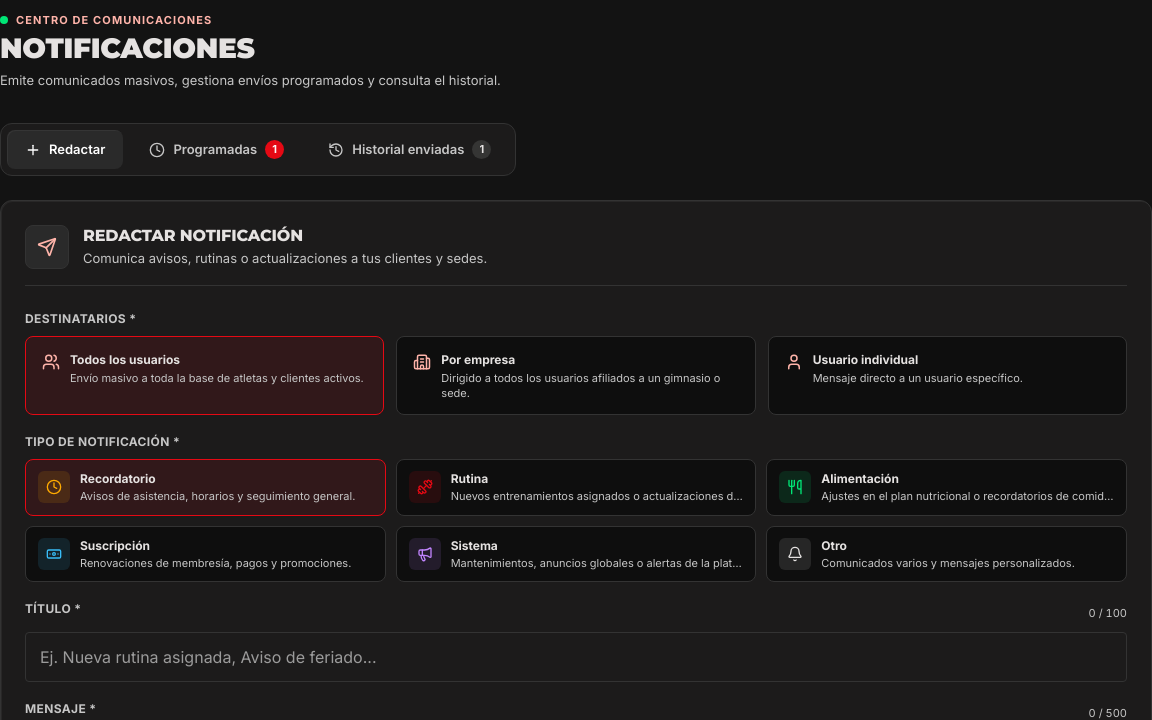
Test: NotificacionesView › permite alternar a la pestaña de Programadas y muestra las notificaciones
Step 1. Click the tab with class "notificaciones__tab" showing "Programadas 1" → click(217, 150), box [131,130,302,170]
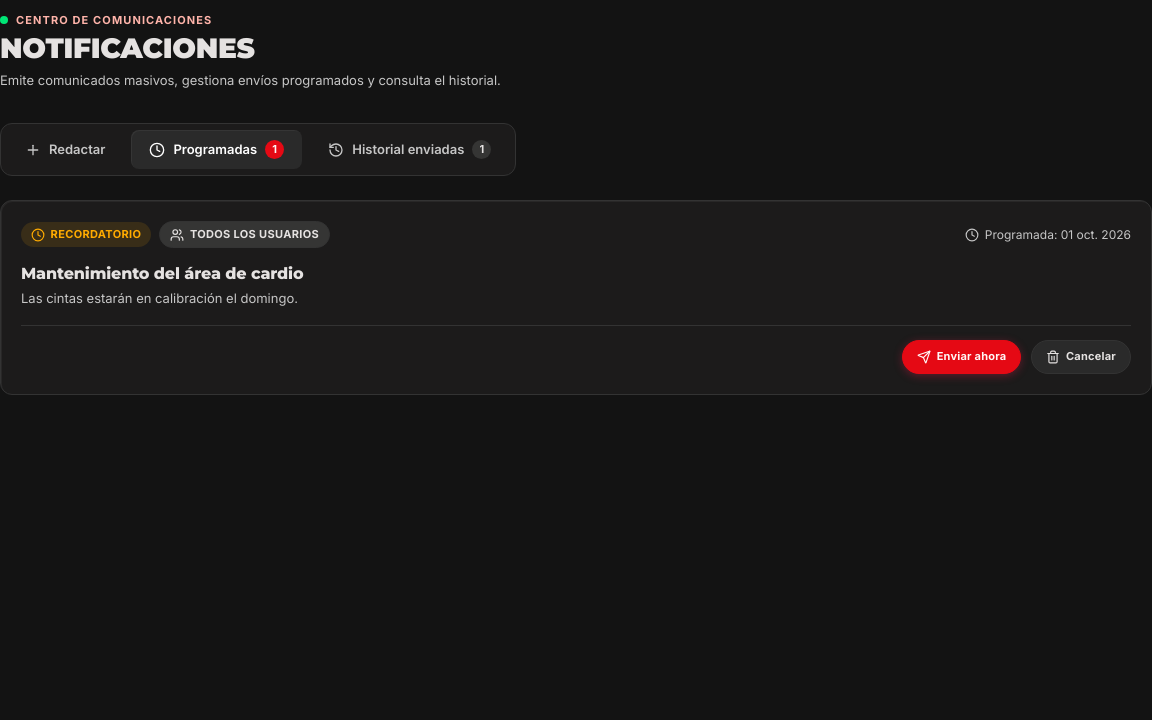
Result: the text "Mantenimiento del área de cardio" is shown at [21,264,304,283]
